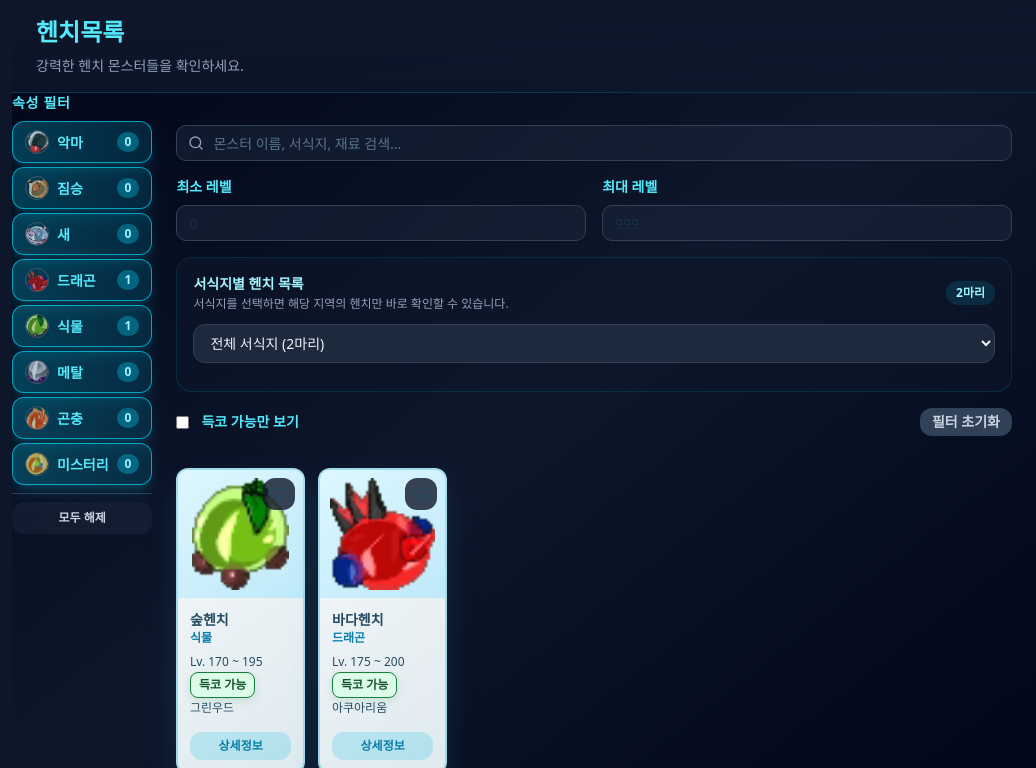
Test: HenchList shared monster cache › filters the hench grid with the habitat dropdown without rendering quick-select buttons
The width and height of the screenshot is (1036, 768).
Select "그린우드 (1마리)" in the dropdown named "서식지 선택" at (594, 344), box [193,324,995,363]
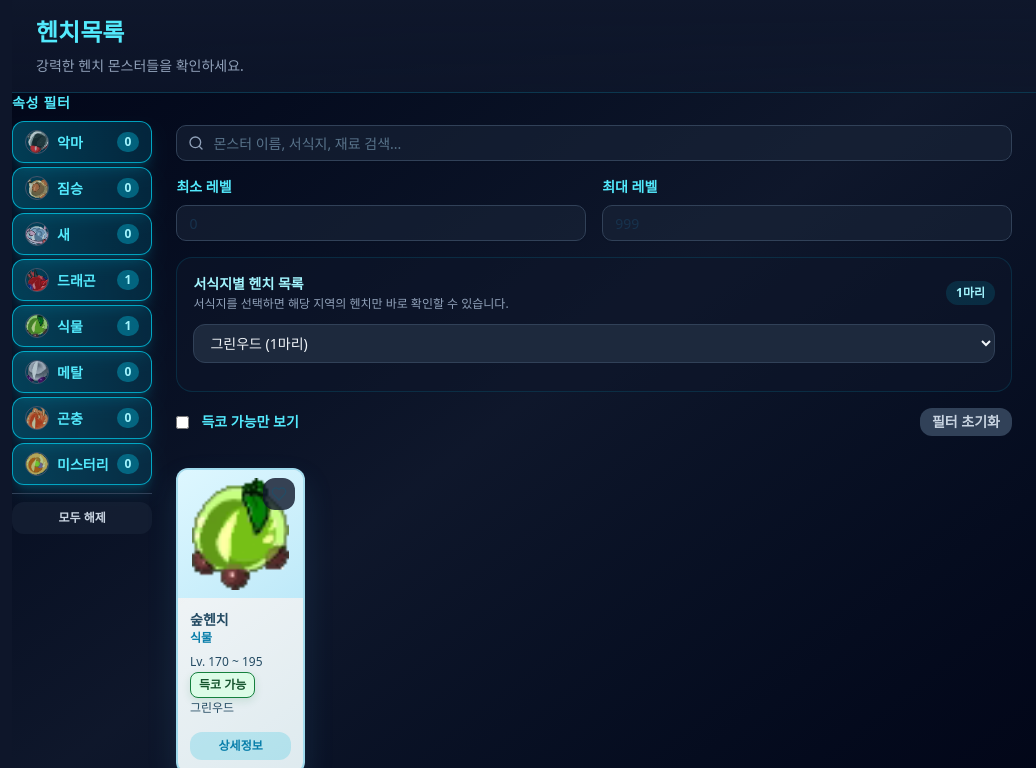
Expected: the text "숲헨치" is shown, [190,610,229,629]
Expected: the text "바다헨치" is gone
Expected: the text "1마리" is shown, [946,281,995,305]
